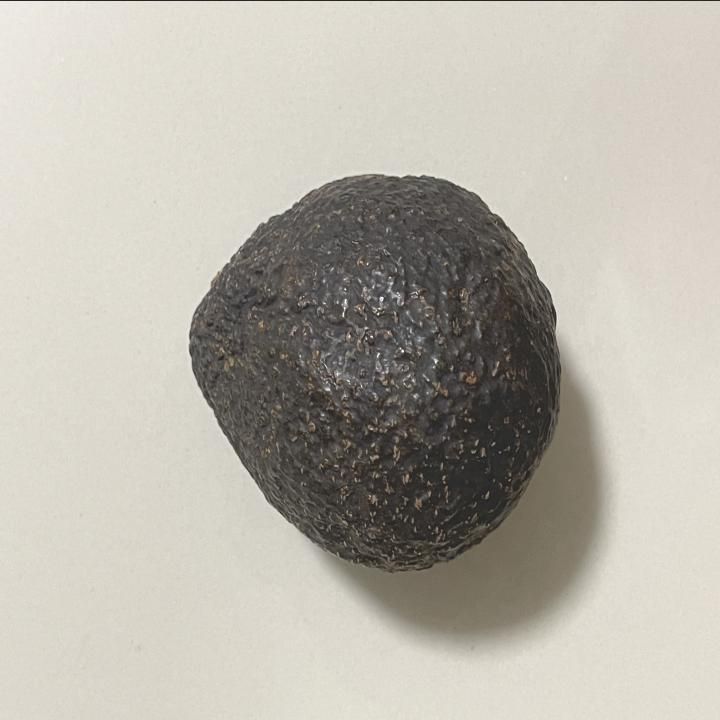Level3: (177, 162, 571, 582)
